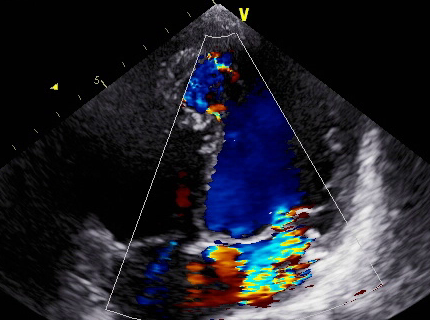MR: (205, 206, 326, 272)
